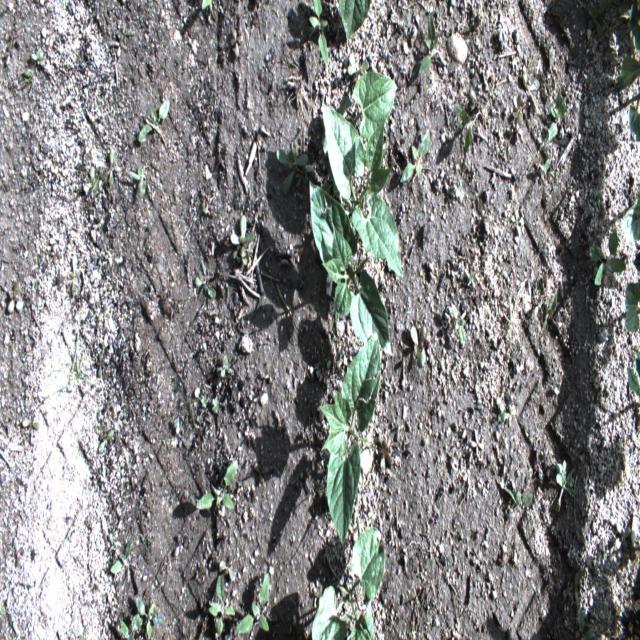crop: (323, 72, 403, 278), (309, 179, 392, 357), (318, 331, 381, 547), (311, 526, 386, 640), (338, 0, 372, 43), (621, 193, 640, 240), (624, 281, 639, 333)
weed: (42, 328, 90, 403), (617, 0, 640, 142), (588, 227, 626, 286), (235, 572, 270, 634), (196, 459, 238, 510), (276, 140, 314, 195), (418, 10, 448, 75), (322, 95, 353, 155), (208, 574, 236, 635), (400, 128, 429, 184), (454, 106, 486, 154), (552, 458, 578, 514), (138, 97, 170, 142), (134, 594, 166, 639), (309, 0, 328, 65), (230, 214, 253, 267), (503, 487, 534, 523), (80, 161, 111, 196), (194, 385, 220, 426), (548, 85, 566, 142), (586, 0, 609, 37), (522, 65, 540, 112), (410, 323, 428, 368), (373, 431, 392, 472), (448, 301, 466, 344), (111, 540, 134, 573), (0, 592, 18, 634), (104, 147, 122, 188), (509, 208, 525, 252), (539, 291, 556, 332), (627, 351, 640, 401), (577, 606, 596, 640), (321, 169, 343, 198), (563, 572, 580, 608), (120, 613, 143, 639), (194, 276, 216, 303), (66, 254, 80, 296), (511, 92, 528, 124), (347, 52, 369, 75), (22, 419, 40, 446), (8, 282, 24, 312), (110, 32, 128, 58), (432, 167, 450, 193), (130, 166, 146, 195), (216, 353, 234, 378), (538, 156, 556, 181), (616, 522, 631, 552), (470, 428, 484, 460), (230, 27, 244, 58), (98, 428, 114, 454), (533, 446, 543, 482), (12, 535, 22, 570), (504, 405, 516, 429), (94, 423, 108, 442), (107, 532, 119, 553), (30, 49, 44, 65), (497, 403, 507, 424), (464, 268, 475, 287), (453, 179, 464, 198), (201, 0, 214, 12)
